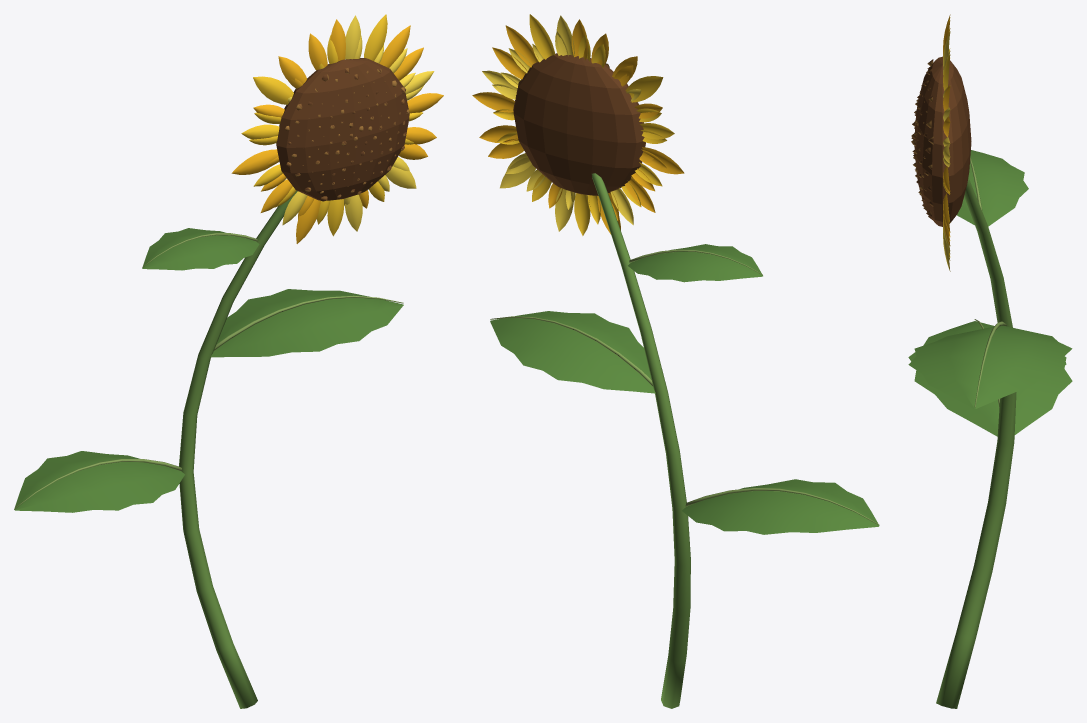
File: sunflower-test-bloom-2-2.glb
3 renders of one model, left to right at view 1: azimuth 30°, elevation 25°; view 2: azimuth 150°, elevation 25°; view 3: azimuth 270°, elevation 25°, orthographic. The views are drawn at different scales.
Visible parts, largest first — view 1: Curved tapered stem; view 2: Curved tapered stem; view 3: Curved tapered stem.
Part boxes in pixels (x1,y1,x2,y2): Curved tapered stem: (14,14,443,708); Curved tapered stem: (472,14,879,708); Curved tapered stem: (908,14,1072,708).
Size of the model in its own units: 0.4294 by 0.6526 by 0.1317.
